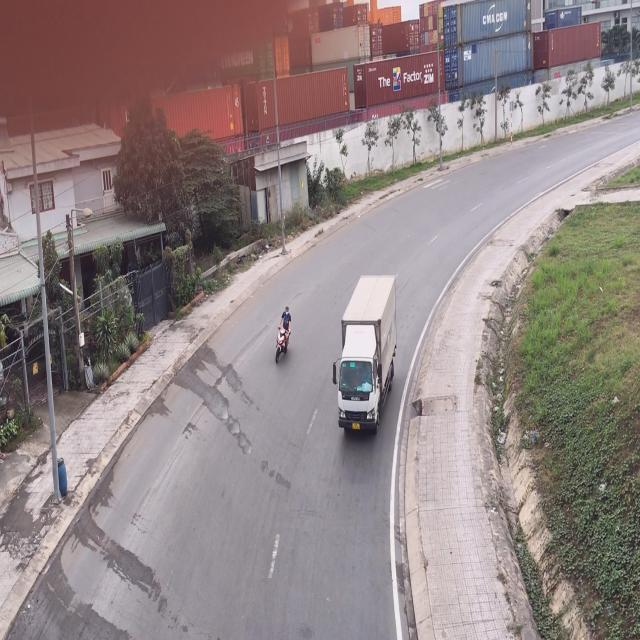motorbike: (274, 306, 292, 368)
truck: (332, 272, 395, 434)
